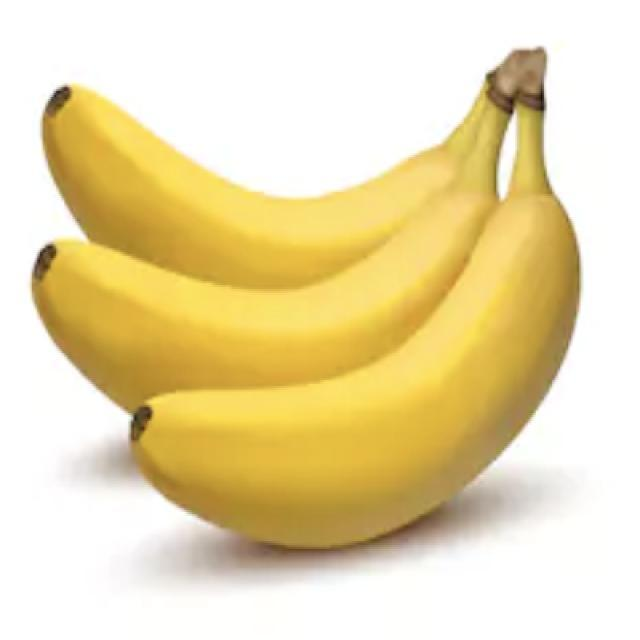Banana: (35, 52, 583, 550)
